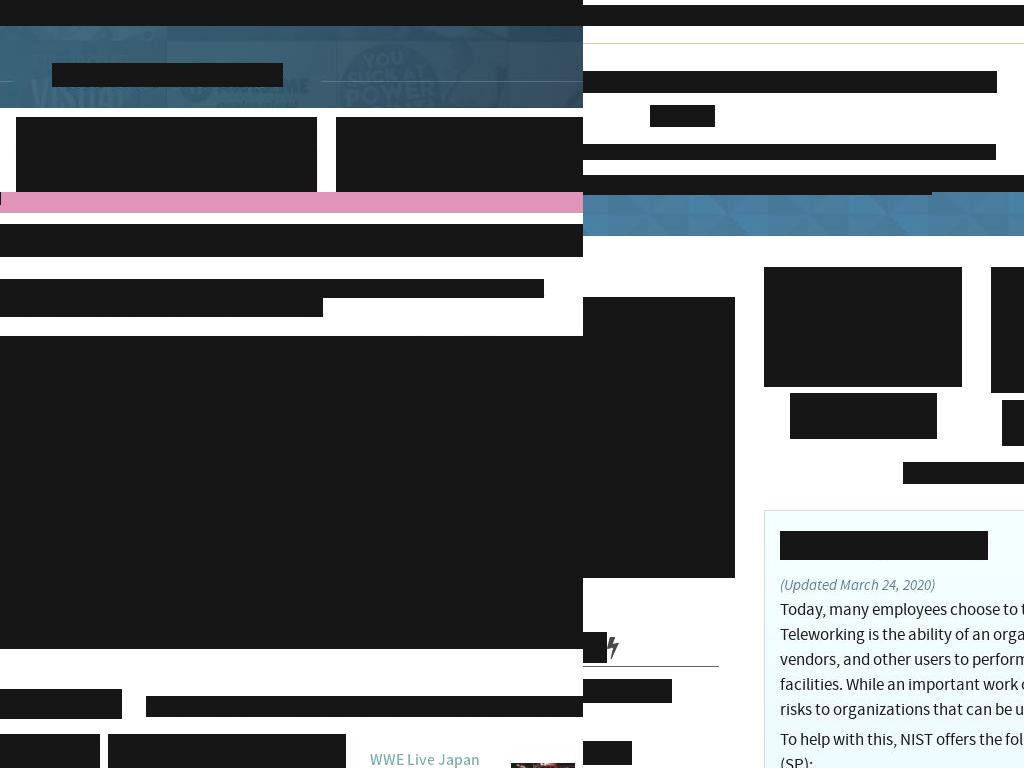button: (0, 336, 583, 649), (16, 117, 317, 192), (336, 117, 583, 192), (108, 734, 346, 768), (354, 734, 583, 768), (583, 297, 735, 338), (583, 337, 735, 378), (583, 377, 735, 418), (583, 417, 735, 458), (583, 457, 735, 498), (583, 497, 735, 538), (583, 537, 735, 578)
field: (583, 71, 997, 93), (650, 105, 715, 127)
heading: (0, 0, 583, 26), (583, 5, 1024, 26), (790, 393, 937, 439), (780, 531, 988, 560), (52, 63, 283, 87), (0, 689, 122, 719), (124, 750, 250, 768), (370, 750, 496, 768)
image: (764, 267, 962, 387), (336, 124, 583, 192), (16, 146, 317, 192)
link: (0, 279, 544, 298), (0, 298, 323, 317), (583, 679, 672, 703), (583, 741, 632, 765)
text: (780, 599, 1024, 721), (0, 224, 583, 257), (780, 729, 1024, 768), (146, 696, 583, 717), (583, 175, 1024, 192), (583, 144, 996, 160), (780, 576, 936, 595), (903, 462, 1024, 484), (704, 337, 735, 378), (704, 377, 735, 418), (704, 537, 735, 578), (18, 750, 82, 768), (264, 750, 328, 768), (510, 750, 574, 768)
